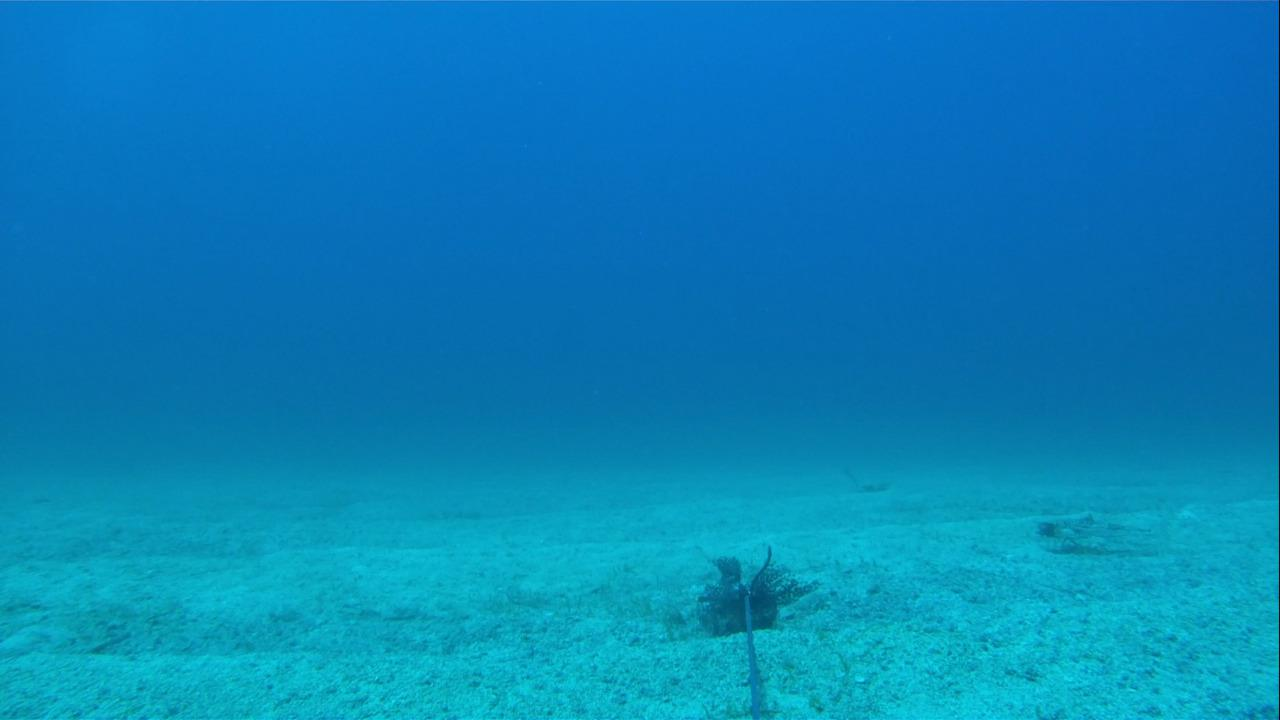dactylopterus: (1028, 506, 1172, 553)
